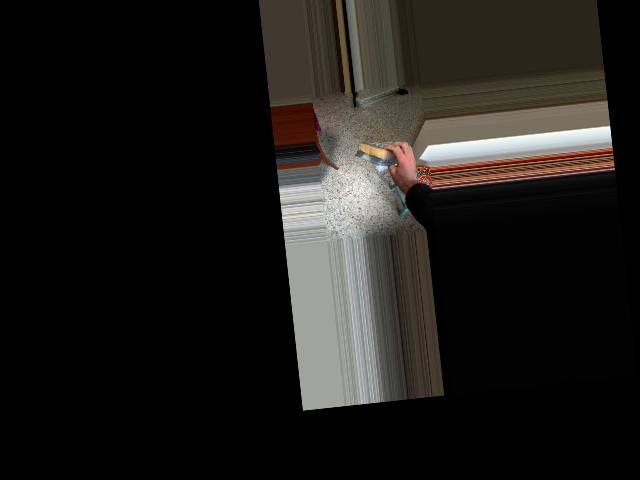cheese: (351, 137, 415, 171)
